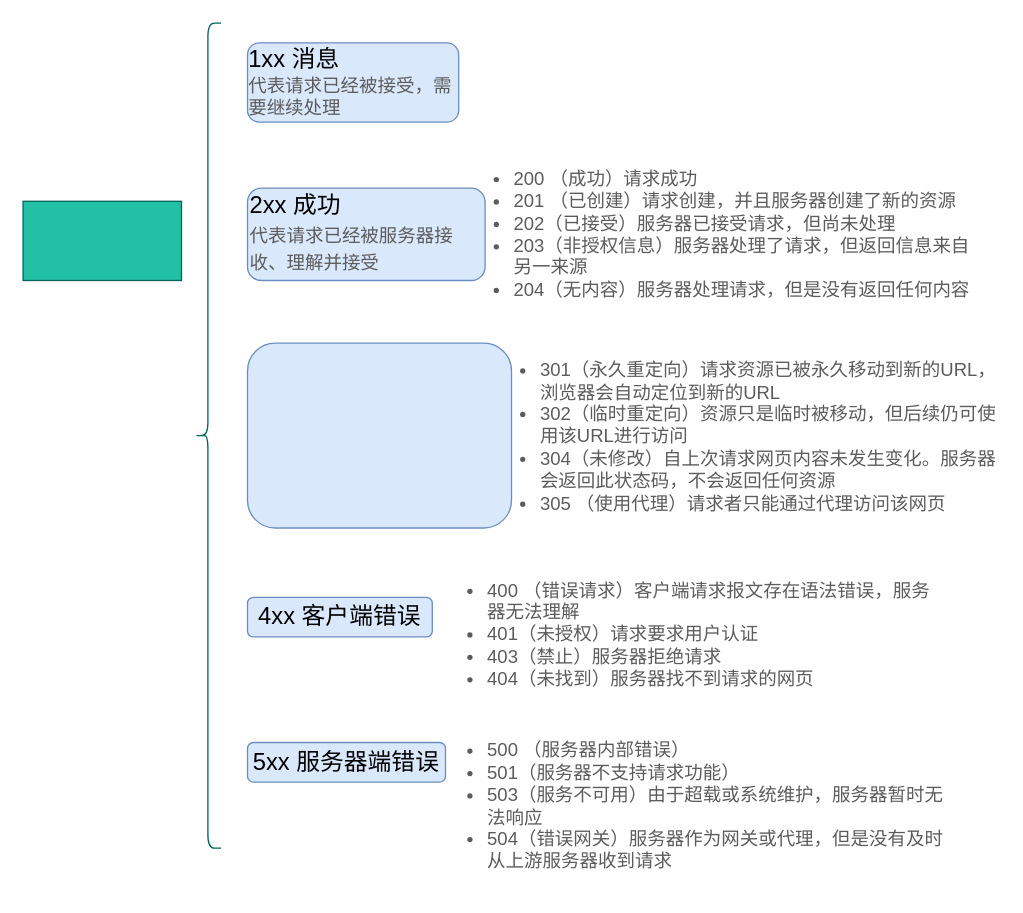
This 1023x913 diagram has some shape labels left out. The centre of each missing label's shape, as x and y in pixels:
"3xx 重定向 代表客户端需要进一步操作才能完成请求，这些状态码用来重定向，后续的请求地址在本次响应的Location域中指明" belongs at (x=379, y=435).
"http状态码" belongs at (x=102, y=240).
